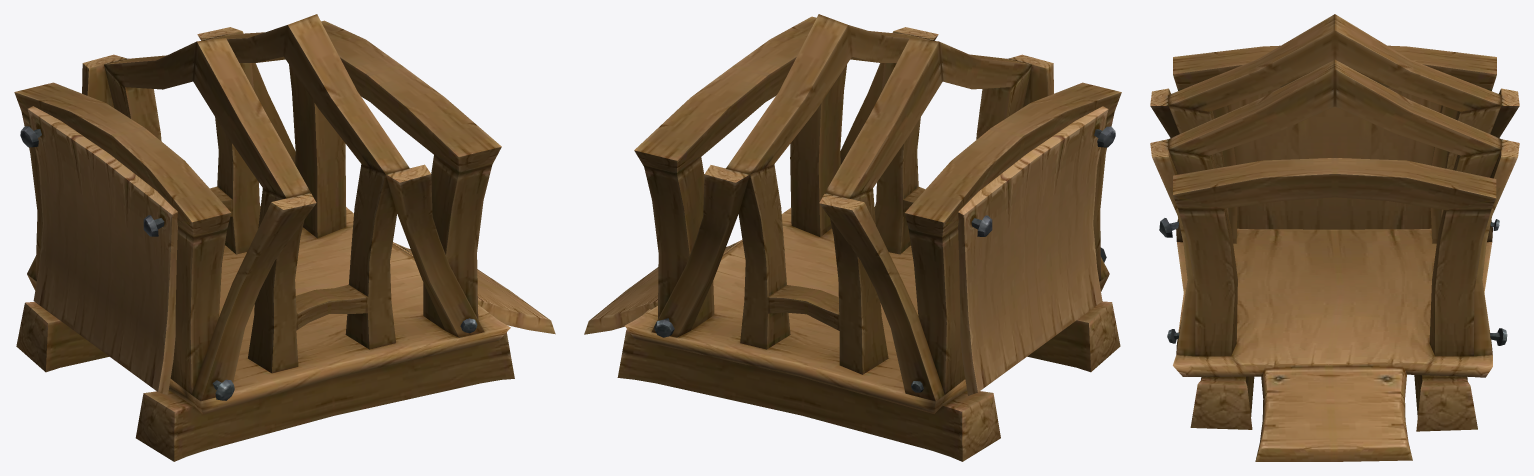
3 renders of one model, left to right at view 1: azimuth 30°, elevation 25°; view 2: azimuth 150°, elevation 25°; view 3: azimuth 270°, elevation 25°, orthographic. The views are drawn at different scales.
Size of the model in its own units: 2.88 by 2.17 by 2.36.
1 material, 1 textured.
